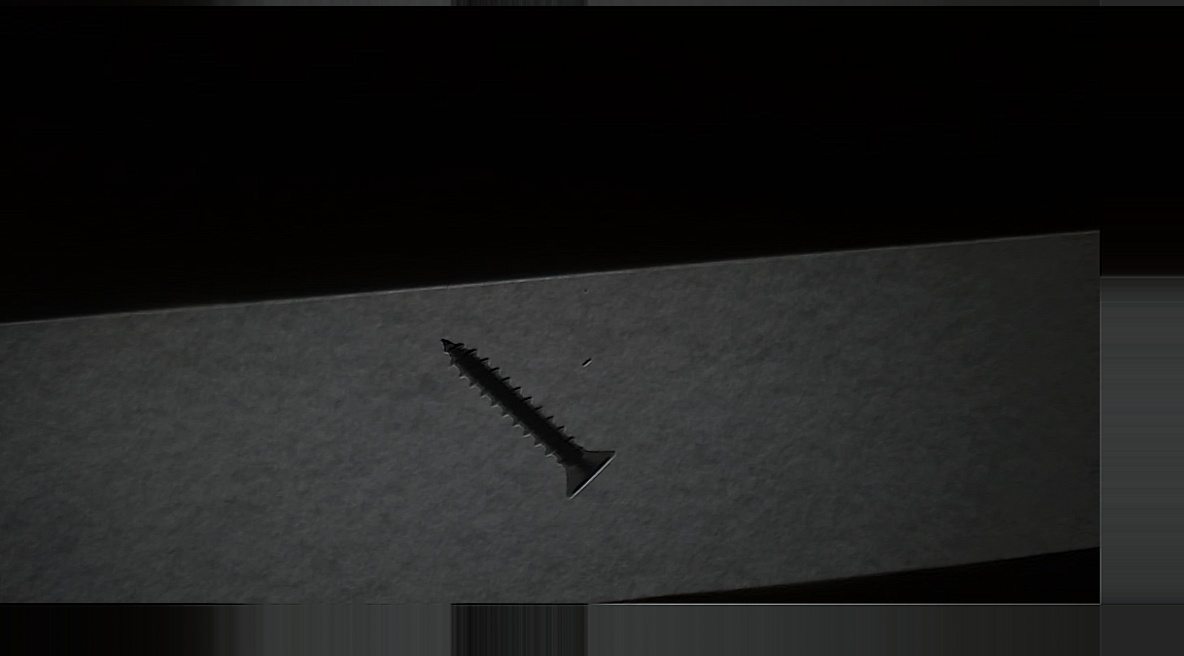S001: (418, 318, 624, 510)
